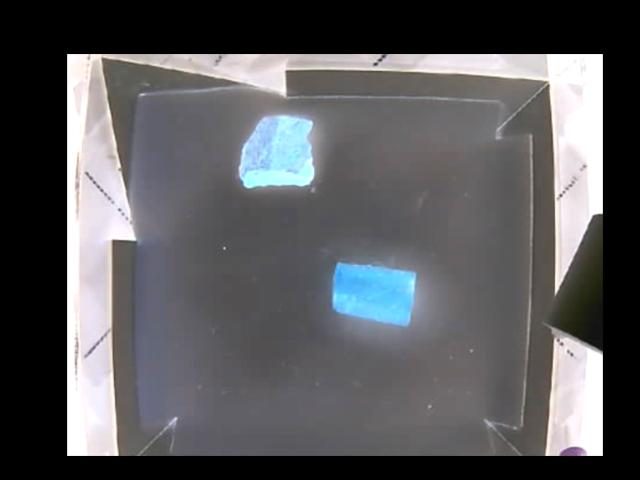Brisk: (235, 115, 317, 188)
Carrot: (333, 261, 418, 326)
